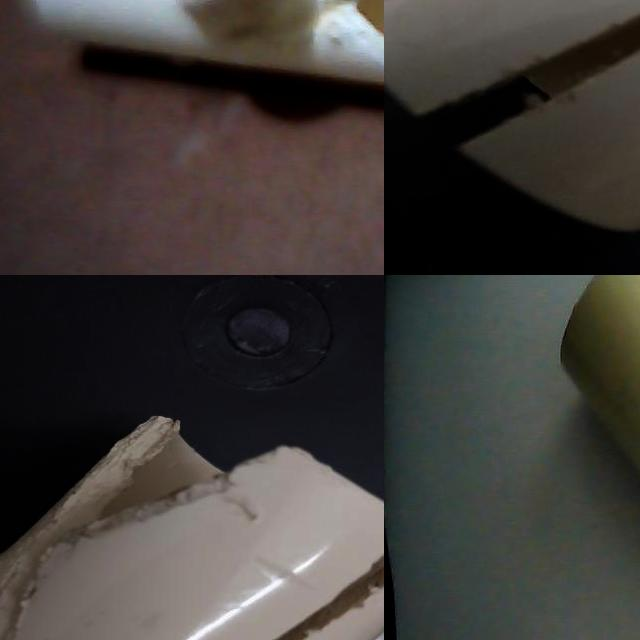Defective: (388, 35, 633, 170), (116, 410, 296, 517), (46, 482, 144, 561), (282, 566, 384, 640), (0, 579, 67, 640), (593, 0, 640, 62)
